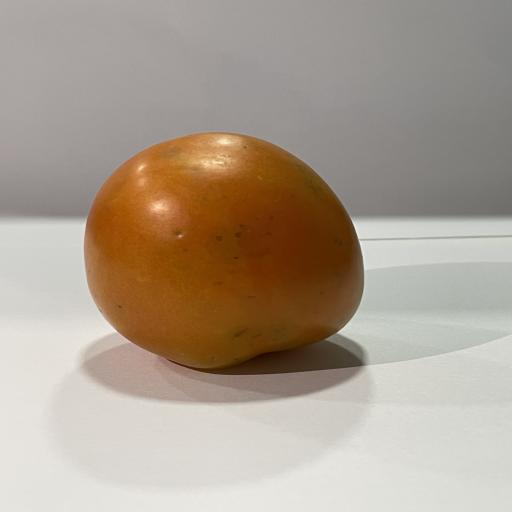unripe: (84, 133, 364, 368)
